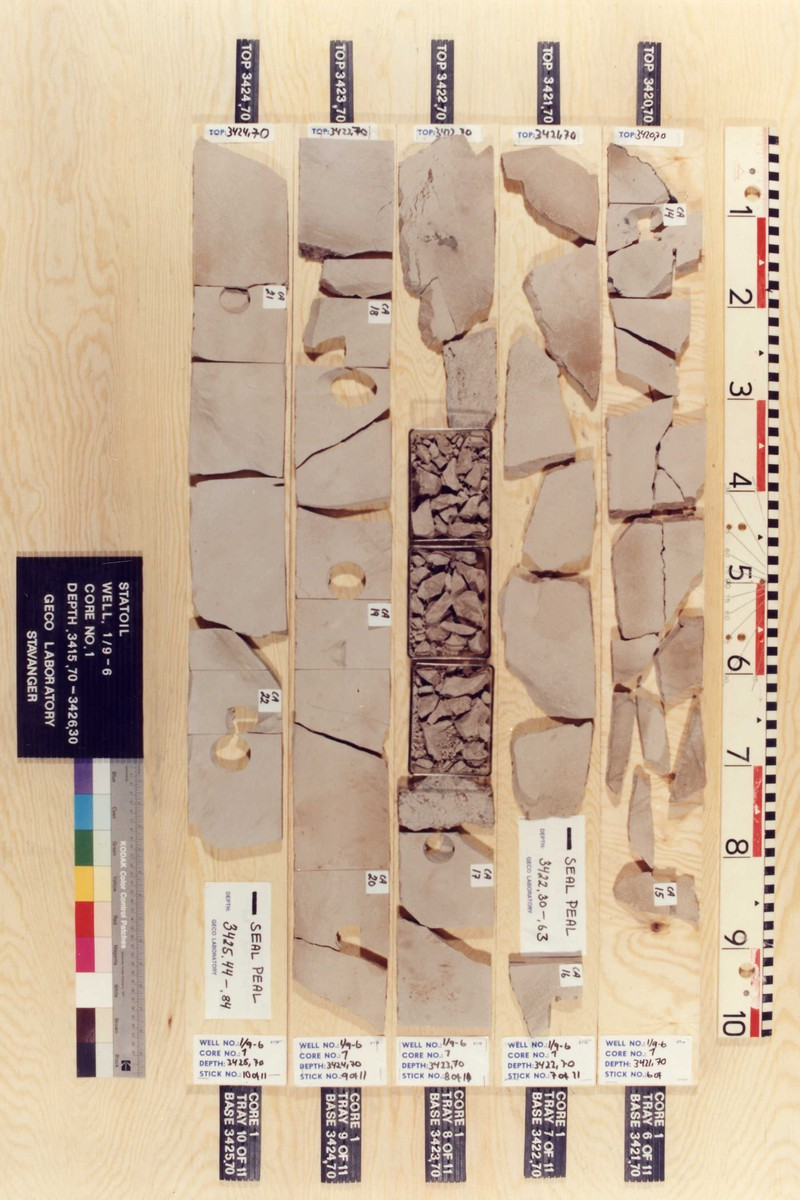core: (295, 137, 392, 1037), (399, 140, 495, 1034), (608, 143, 707, 930), (191, 138, 287, 857), (500, 146, 600, 815), (507, 957, 586, 1035)
